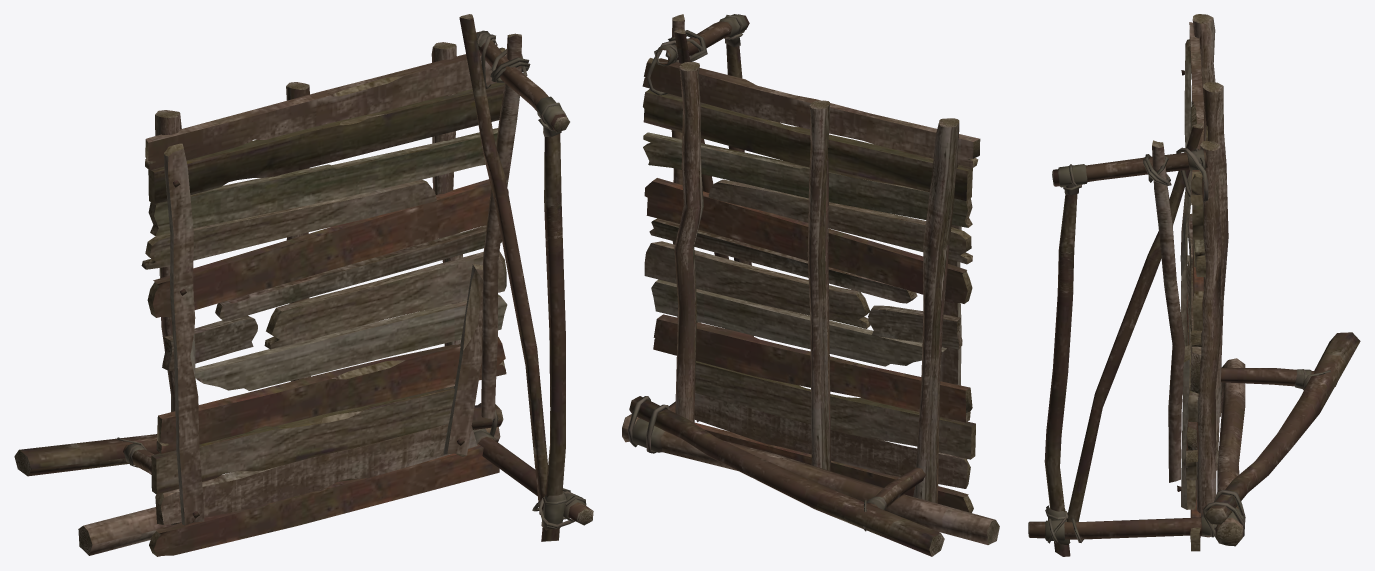
File: GEN_PRO_Side_Bridge_3m_01A_LOD0-transformed.glb
3 views of the same model, side by side, from view 1: azimuth 30°, elevation 25°; view 2: azimuth 150°, elevation 25°; view 3: azimuth 270°, elevation 25° (orthographic). The views are drawn at different scales.
Parts seen in each view (by area): view 1: GEN_PRO_Side_Bridge_3m_01A_LOD0; view 2: GEN_PRO_Side_Bridge_3m_01A_LOD0; view 3: GEN_PRO_Side_Bridge_3m_01A_LOD0.
Part boxes in pixels (x1,y1,x2,y2): GEN_PRO_Side_Bridge_3m_01A_LOD0: (14,14,593,556); GEN_PRO_Side_Bridge_3m_01A_LOD0: (622,14,999,556); GEN_PRO_Side_Bridge_3m_01A_LOD0: (1028,14,1360,556).
Size of the model in its own units: 0.03 by 0.0334 by 0.0236.
2 materials, 2 textured.
